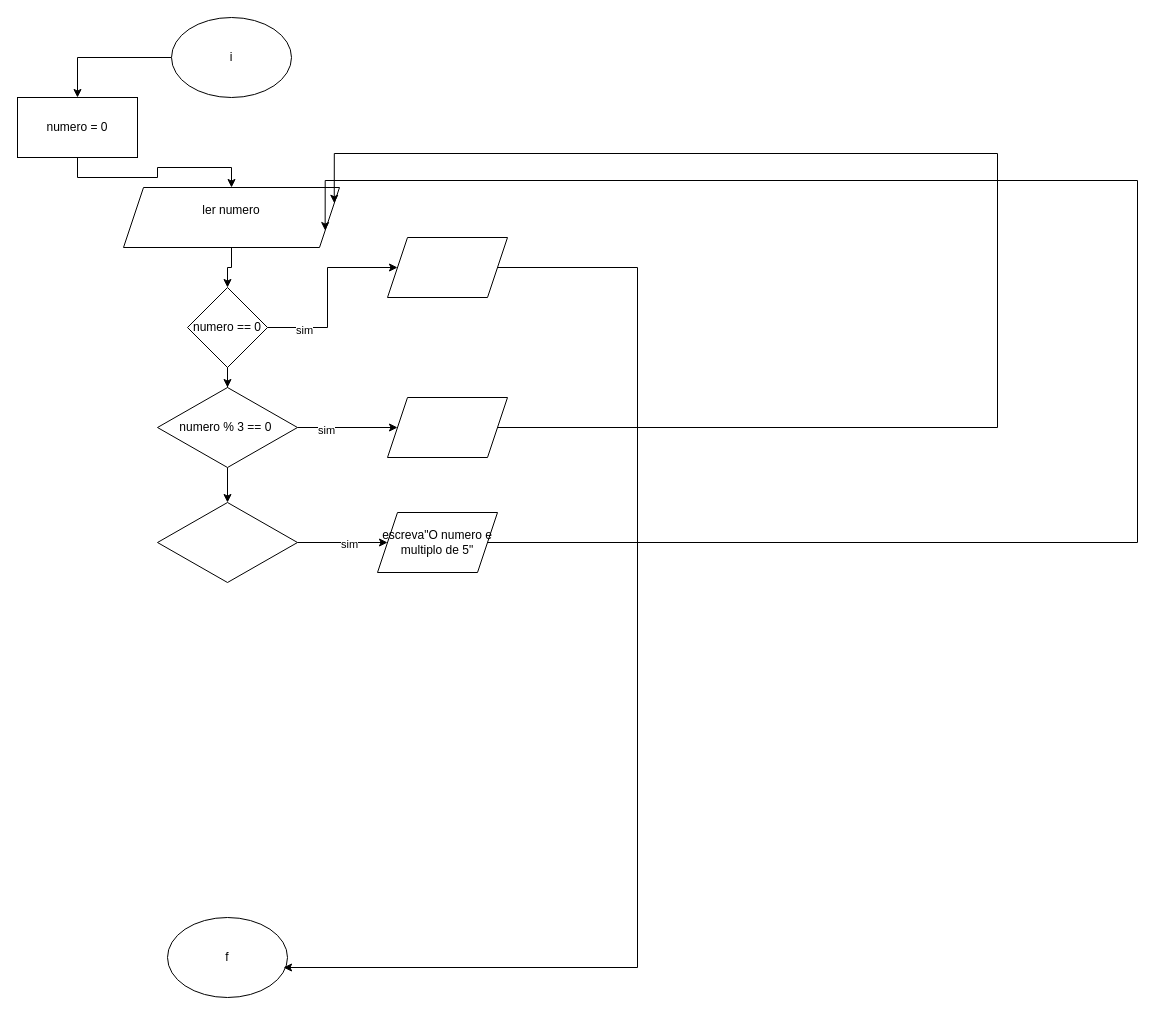
The diagram is 1163 pixels wide and 1015 high, and some of its shapes have lost their labels. Here are the shapes that lost their labels. From the top down, the centre of each, then its label:
(447,267): Escreva "saindo do programa"
(447,427): escreva"O numero e multiplo de 3"
(227,542): numero % 5 == 0
